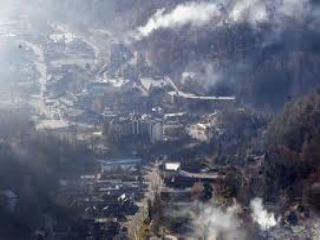smoke: (119, 3, 271, 52), (244, 197, 280, 230)
